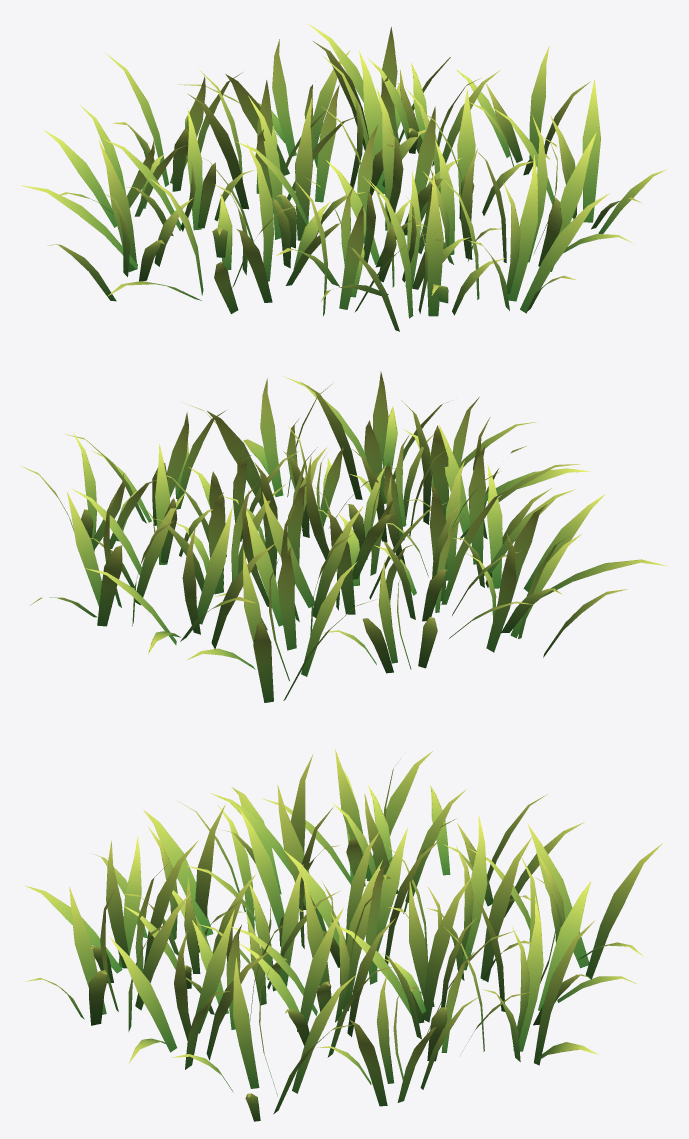
File: grass_1.glb
3 views of the same model, one above another, from view 1: azimuth 30°, elevation 25°; view 2: azimuth 150°, elevation 25°; view 3: azimuth 270°, elevation 25° (orthographic). The views are drawn at different scales.
Visible parts, largest first — view 1: Object_2; view 2: Object_2; view 3: Object_2.
Boxes of the visible parts, left/top/right/bottom form: Object_2: left=21, top=24, right=667, bottom=331; Object_2: left=21, top=371, right=667, bottom=702; Object_2: left=25, top=748, right=662, bottom=1121.
Bounding box in the file's own units: 12.61 × 3.26 × 11.58.
Materials: 1 (1 with a texture image).
